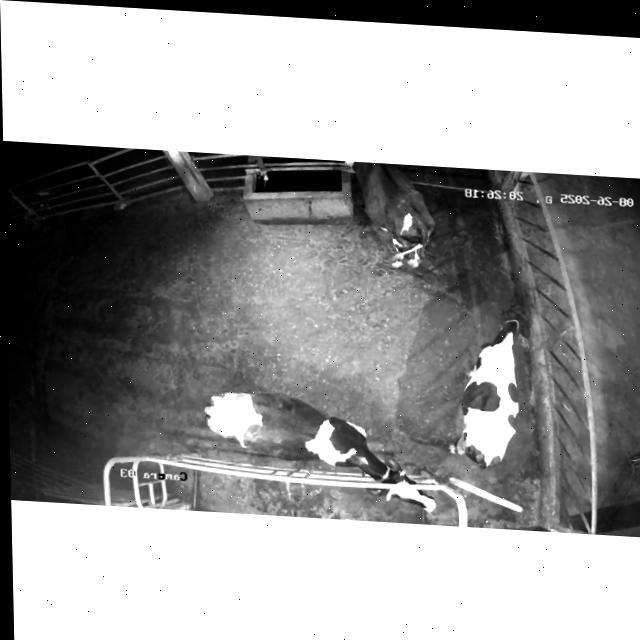stand: (196, 359, 438, 515), (429, 288, 545, 479), (353, 161, 440, 276)
